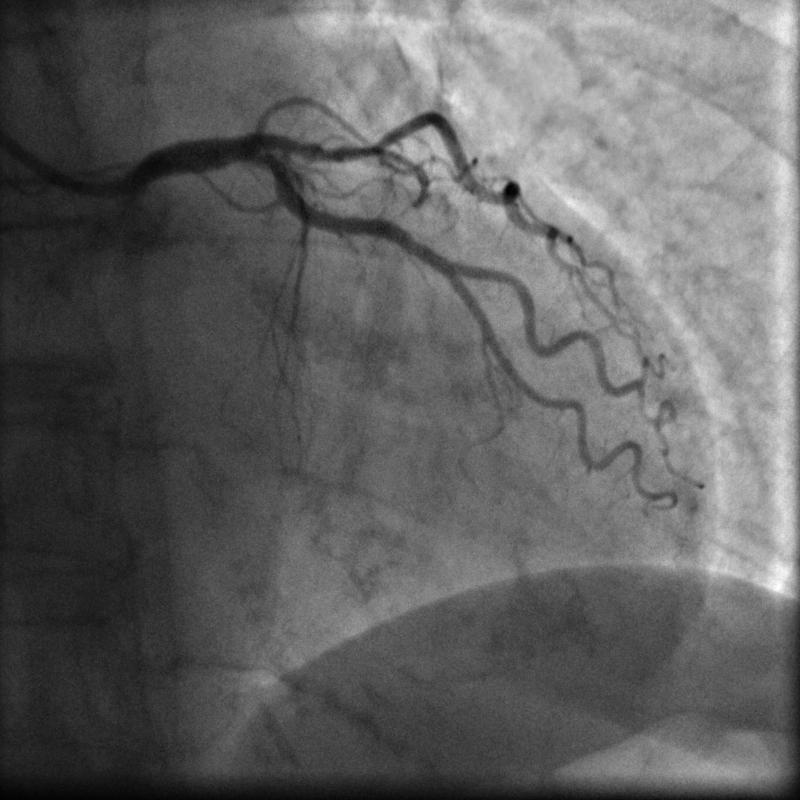Stenosis: (359, 141, 384, 158)
